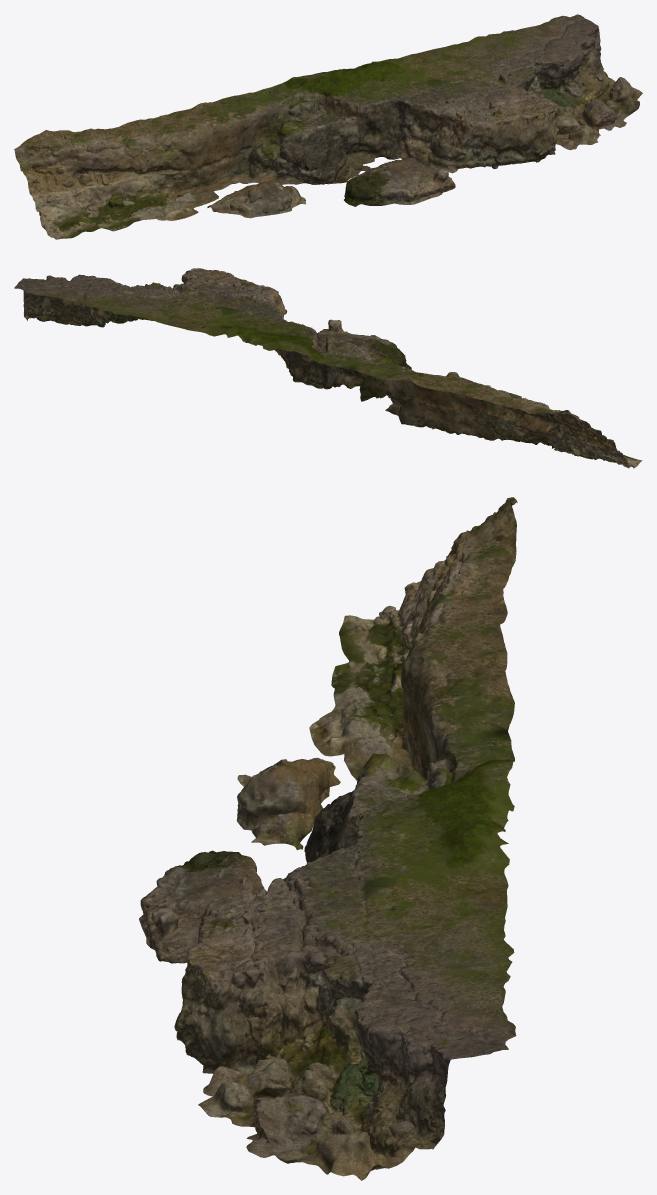
Rendered from coastal_cliff_04.glb.
The picture shows the model from 3 angles, top to bottom: view 1: azimuth 30°, elevation 25°; view 2: azimuth 150°, elevation 25°; view 3: azimuth 270°, elevation 25°; orthographic projection. The views are drawn at different scales.
Parts seen in each view (by area): view 1: coastal_cliff_04; view 2: coastal_cliff_04; view 3: coastal_cliff_04.
Part boxes in pixels (<box>): coastal_cliff_04: <box>14,14,642,239</box>; coastal_cliff_04: <box>14,268,642,468</box>; coastal_cliff_04: <box>139,497,517,1180</box>.
Size of the model in its own units: 86.77 by 11 by 24.25.
Materials: 1 (1 with a texture image).
